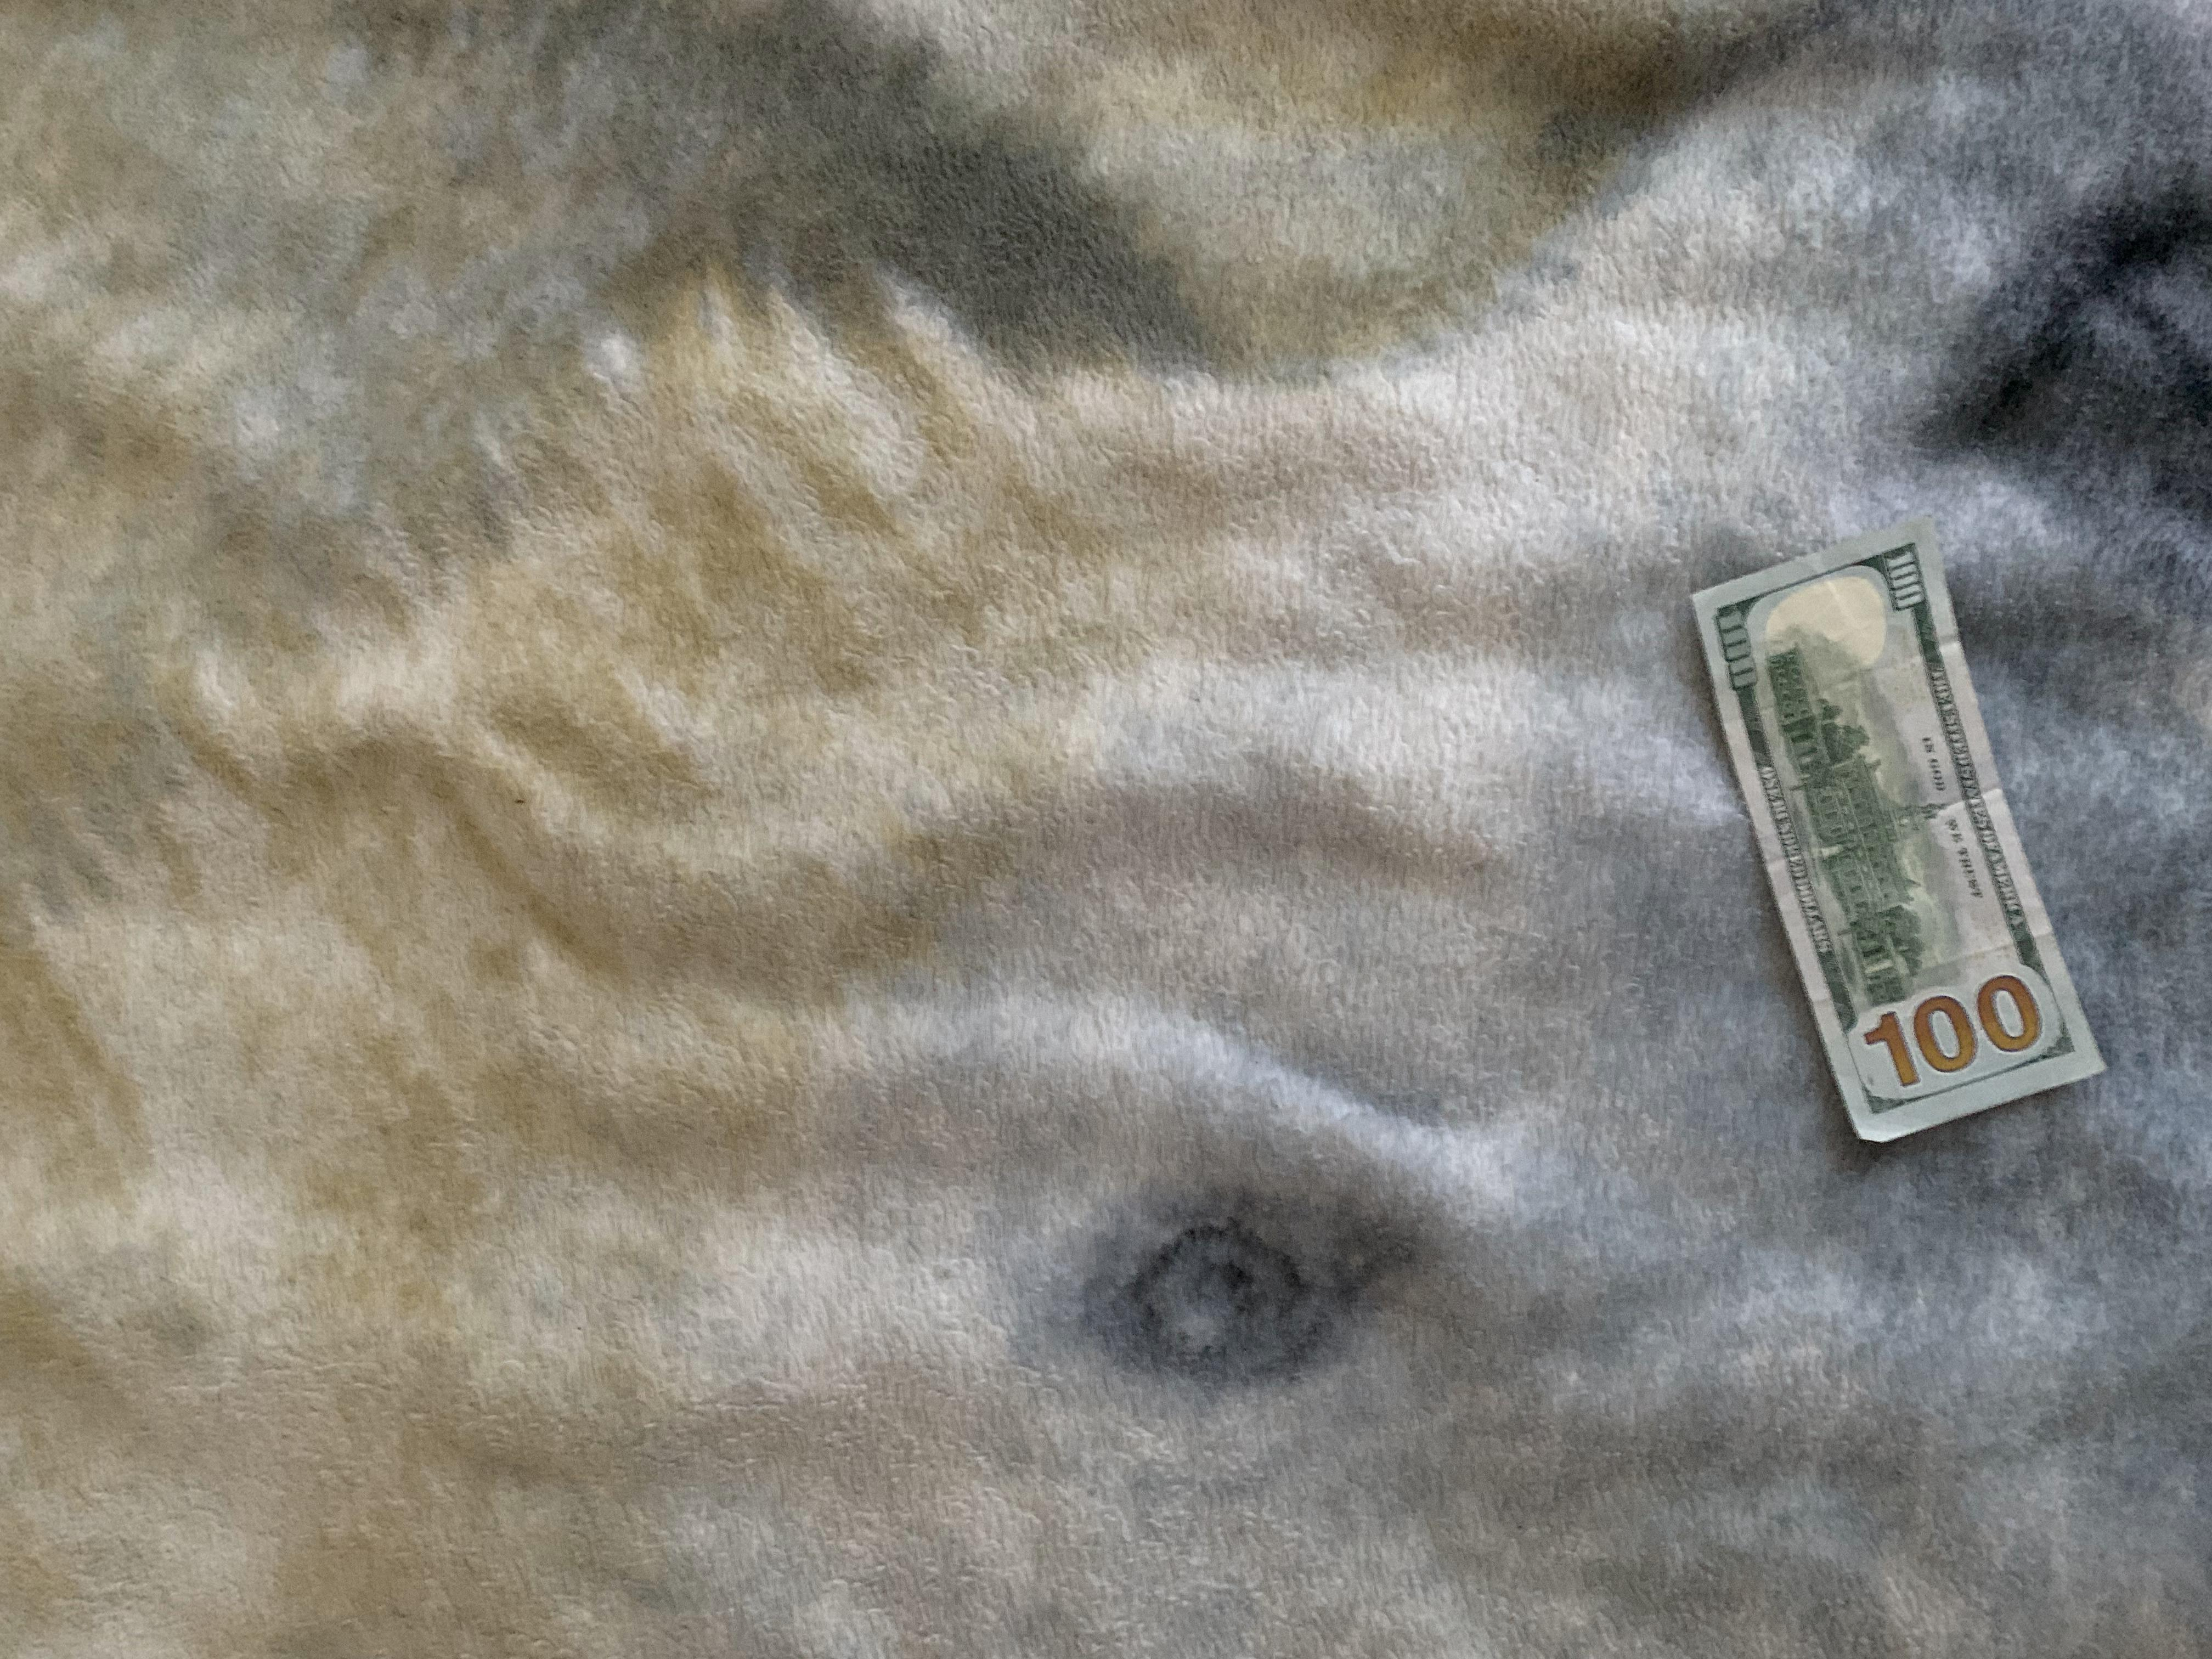HundredBill: (1693, 512, 2111, 1148)
